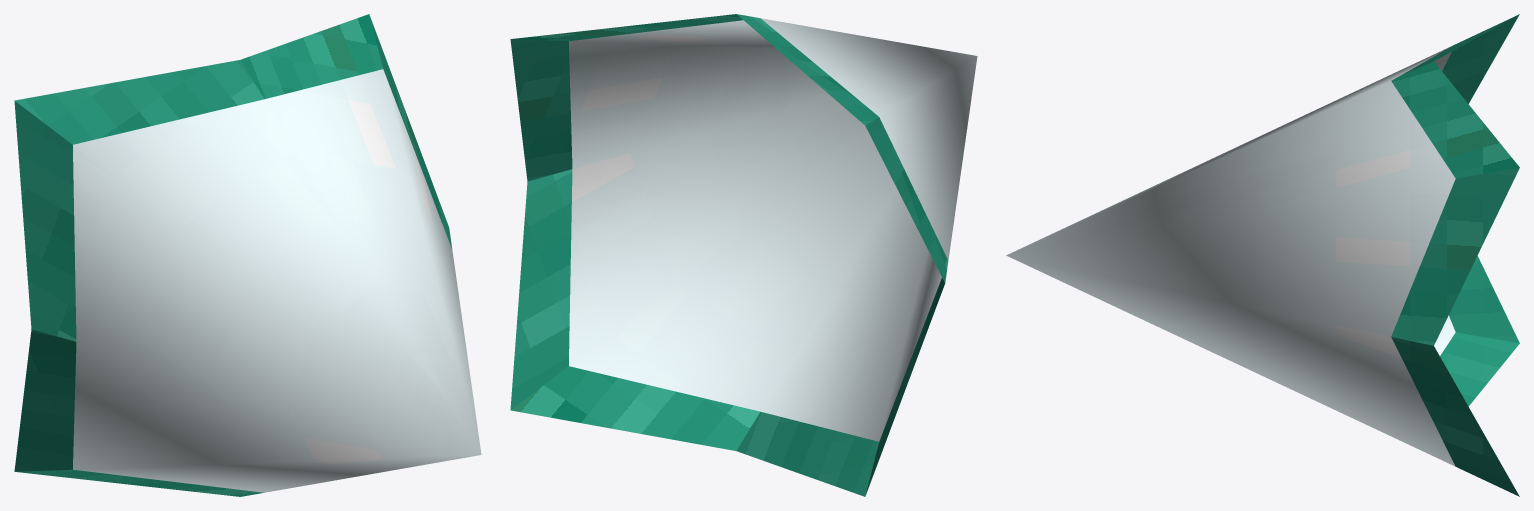
Rendered from tree-pine-top-snow.glb.
3 renders of one model, left to right at view 1: azimuth 30°, elevation 25°; view 2: azimuth 150°, elevation 25°; view 3: azimuth 270°, elevation 25°, orthographic. The views are drawn at different scales.
Parts seen in each view (by area): view 1: tree-pine-top-snow; view 2: tree-pine-top-snow; view 3: tree-pine-top-snow.
Boxes of the visible parts, bbox=[...] form: tree-pine-top-snow: bbox=[14, 14, 481, 496]; tree-pine-top-snow: bbox=[510, 14, 977, 496]; tree-pine-top-snow: bbox=[1006, 14, 1519, 496].
Size of the model in its own units: 1.67 by 1.67 by 2.
Materials: 2 (2 with a texture image).
